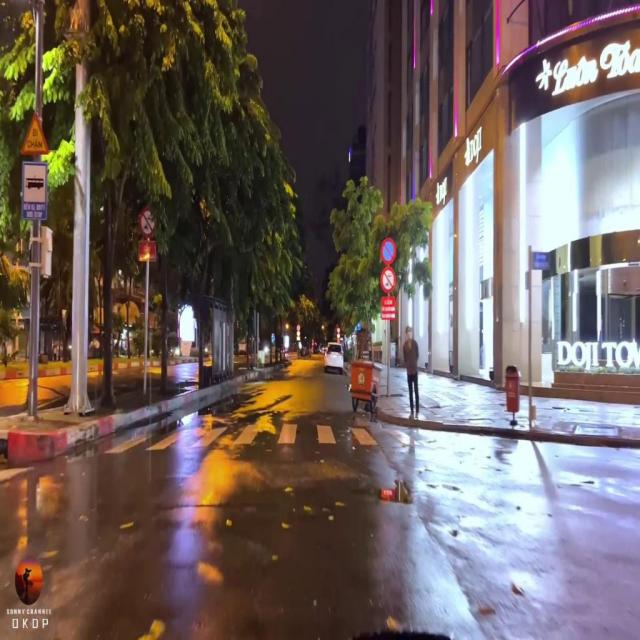cam_do_xe: (380, 237, 397, 265)
cam_xe_2_banh_va_xe_3_banh_co_dong_co: (140, 206, 156, 237), (380, 266, 397, 294)
di_cham: (20, 110, 50, 154)
khac: (22, 162, 46, 220)
